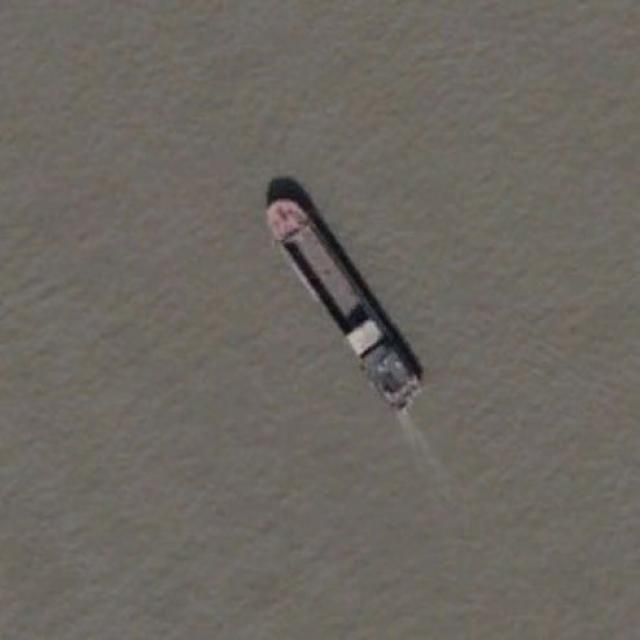ship: (262, 187, 426, 414)
